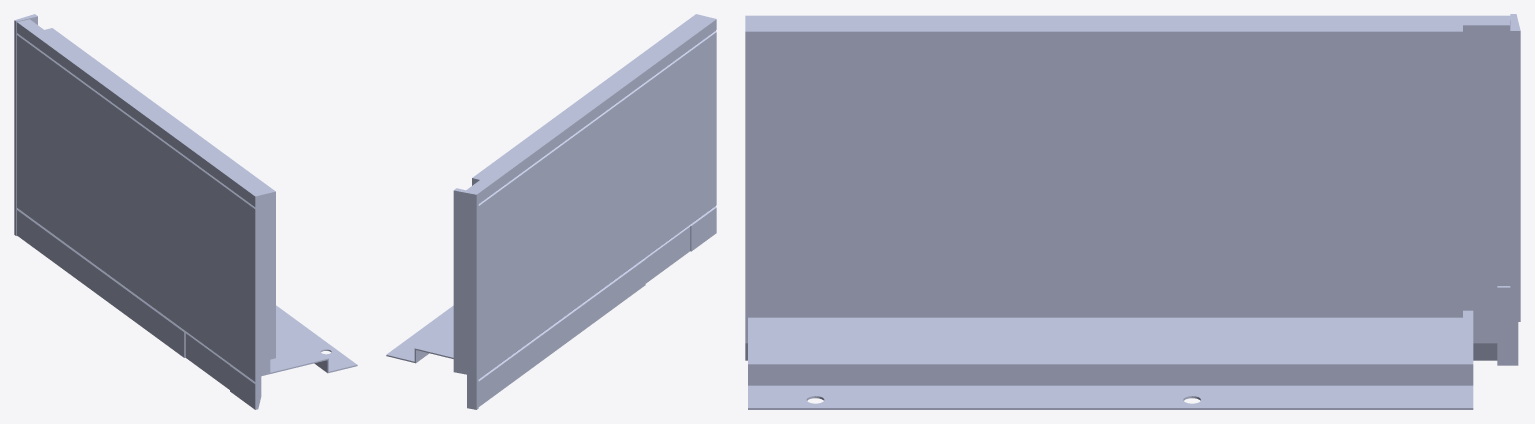
File: lg-kava-K270-p.glb
3 renders of one model, left to right at view 1: azimuth 30°, elevation 25°; view 2: azimuth 150°, elevation 25°; view 3: azimuth 270°, elevation 25°, orthographic. The views are drawn at different scales.
Parts seen in each view (by area): view 1: 47120622; view 2: 47120622; view 3: 47120622.
Boxes of the visible parts, bbox=[...] form: 47120622: bbox=[14, 14, 357, 409]; 47120622: bbox=[386, 14, 716, 409]; 47120622: bbox=[745, 14, 1520, 409].
Size of the model in its own units: 0.0653 by 0.1292 by 0.2635.
